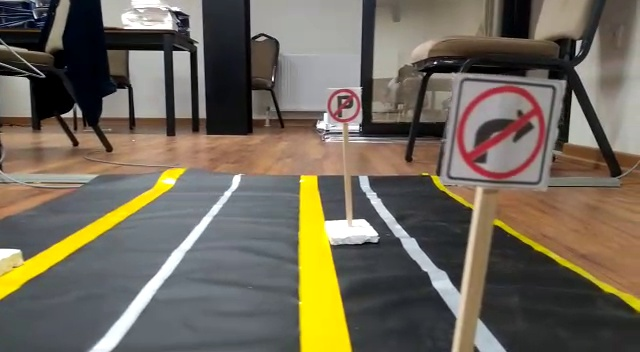park_yapilmaz: (328, 89, 361, 121)
saga_donulmez: (459, 76, 542, 184)
